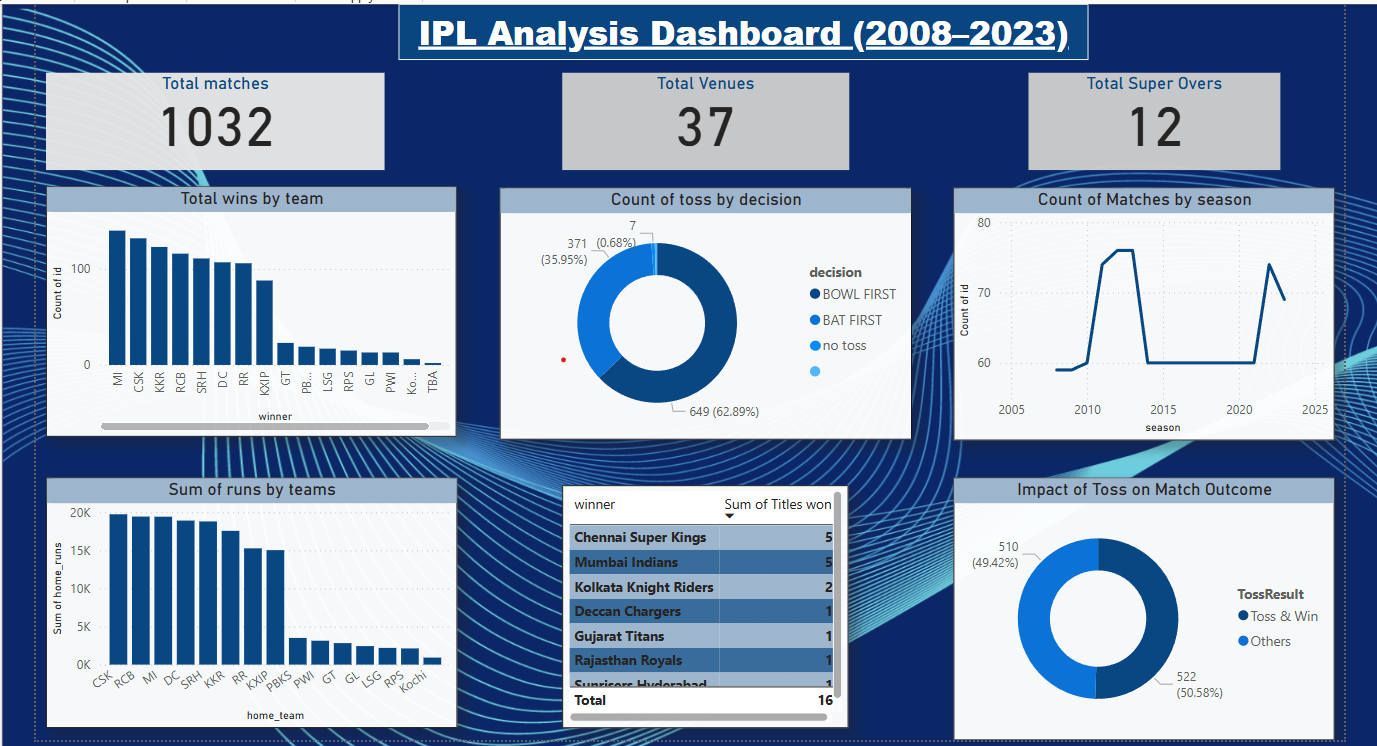

Layout of this report page (visuals, bound fields, positions):
{"tool":"powerbi","page":{"name":"Page 1","canvas":[1280,720],"ordinal":0},"visuals":[{"type":"textbox","box":[354.6,0,675,55],"z":0},{"type":"card","title":"Total matches","fields":{"Values":["Count(IPL_Dataset.id)"]},"box":[9.6,67.4,331.4,94.9],"z":1000},{"type":"card","title":"Total Venues","fields":{"Values":["Count(IPL_Dataset.venue_name)"]},"box":[514.3,67.4,280.5,94.9],"z":2000},{"type":"columnChart","title":"Total wins by team","fields":{"Category":["IPL_Dataset.winner"],"Y":["CountNonNull(IPL_Dataset.id)"]},"box":[9.6,178.8,401.5,244.8],"z":3000},{"type":"donutChart","title":"Count of toss by decision","fields":{"Category":["IPL_Dataset.decision"],"Y":["CountNonNull(IPL_Dataset.id)"]},"box":[453.8,180.1,402.9,246.2],"z":4000},{"type":"lineChart","title":"Count of Matches by season","fields":{"Category":["IPL_Dataset.season"],"Y":["Count(IPL_Dataset.id)"]},"box":[897.6,179.8,373,247],"z":5000},{"type":"clusteredColumnChart","title":"Sum of runs by teams","fields":{"Category":["IPL_Dataset.home_team"],"Y":["Sum(IPL_Dataset.home_runs)"]},"box":[10,464,402,245],"z":6000},{"type":"card","title":"Total Super Overs","fields":{"Values":["CountNonNull(IPL_Dataset.id)"]},"box":[970.9,67.4,246.2,94.9],"z":7000},{"type":"tableEx","fields":{"Values":["TitlesTable.winner","Sum(TitlesTable.Titles won)"]},"box":[514.8,470.8,280,237.2],"z":8000},{"type":"donutChart","title":"Impact of Toss on Match Outcome","fields":{"Category":["IPL_Dataset.TossResult"],"Y":["CountNonNull(IPL_Dataset.id)"]},"box":[898,463.4,372.7,257.2],"z":9000}]}

Visuals, with their boxes in screenshot pixels (x1, y1, x2, y2):
textbox: 395,0,1084,56
"Total matches" card: 42,69,381,166
"Total Venues" card: 558,69,844,166
"Total wins by team" columnChart: 42,183,452,433
"Count of toss by decision" donutChart: 496,184,907,436
"Count of Matches by season" lineChart: 949,184,1330,436
"Sum of runs by teams" clusteredColumnChart: 42,474,453,724
"Total Super Overs" card: 1024,69,1276,166
tableEx - TitlesTable.winner x Sum(TitlesTable.Titles won): 558,481,844,723
"Impact of Toss on Match Outcome" donutChart: 950,473,1330,736
